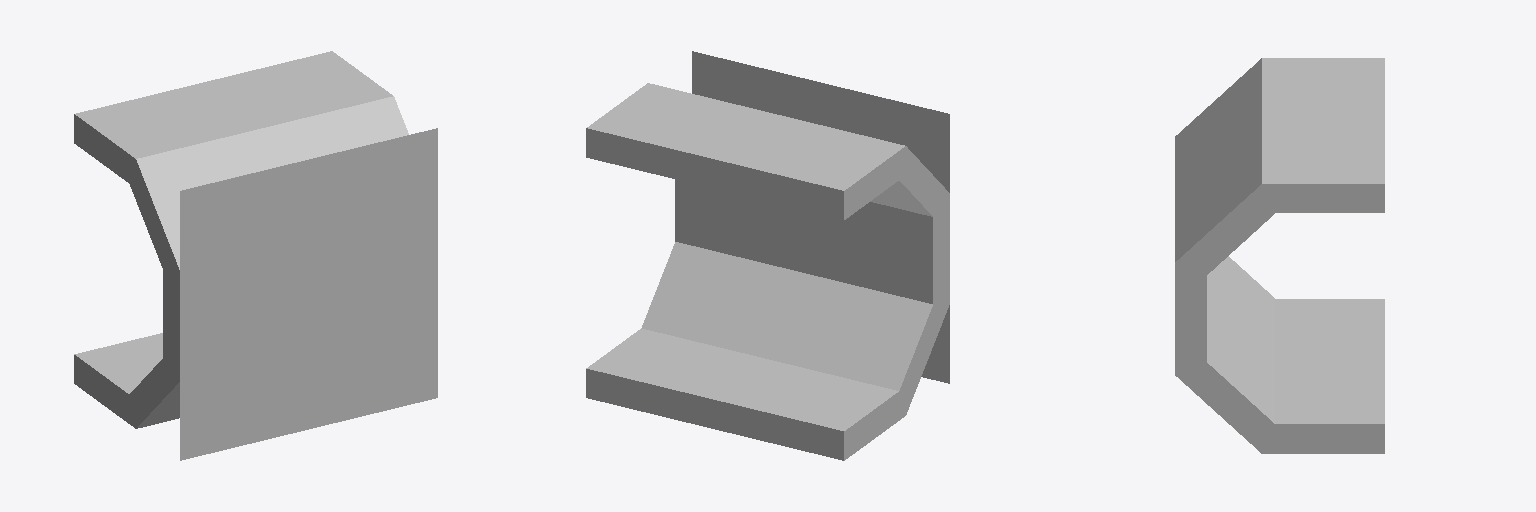
File: clu_glow_wall.obj
3 views of the same model, side by side, from view 1: azimuth 30°, elevation 25°; view 2: azimuth 150°, elevation 25°; view 3: azimuth 270°, elevation 25° (orthographic).
Parts seen in each view (by area): view 1: octagon.004, octagon, octagon.002, octagon.003, octagon.001, octagon.000; view 2: octagon.000, octagon, octagon.001, octagon.003, octagon.004, octagon.002; view 3: octagon, octagon.001, octagon.002, octagon.000, octagon.003.
Part boxes in pixels (x1,y1,x2,y2): octagon.004: (180,128,437,460); octagon: (74,51,392,186); octagon.002: (128,96,408,281); octagon.003: (163,207,437,381); octagon.001: (74,333,162,428); octagon.000: (128,353,179,428); octagon.000: (642,242,948,414); octagon: (586,83,905,219); octagon.001: (586,328,905,460); octagon.003: (675,179,949,305); octagon.004: (692,51,949,383); octagon.002: (870,146,948,220); octagon: (1262,58,1384,212); octagon.001: (1262,299,1384,453); octagon.002: (1175,58,1283,280); octagon.000: (1175,256,1280,453); octagon.003: (1175,263,1206,374).
Size of the model in its own units: 1 by 1 by 0.7071.